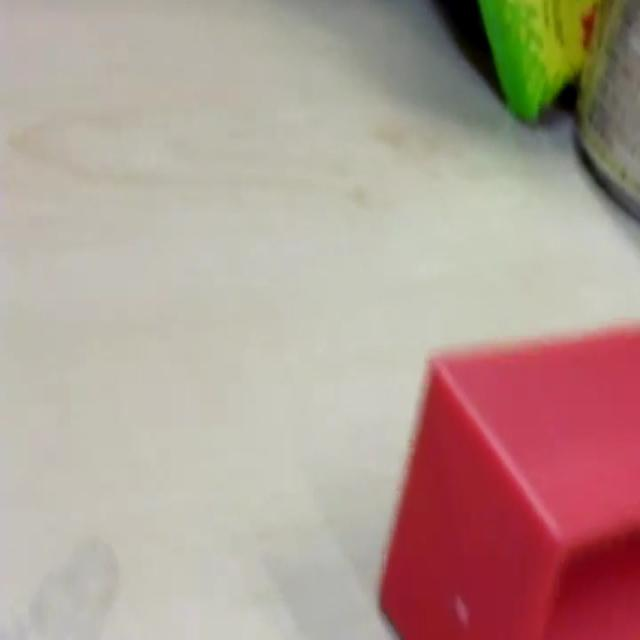red_block: (378, 316, 638, 636)
